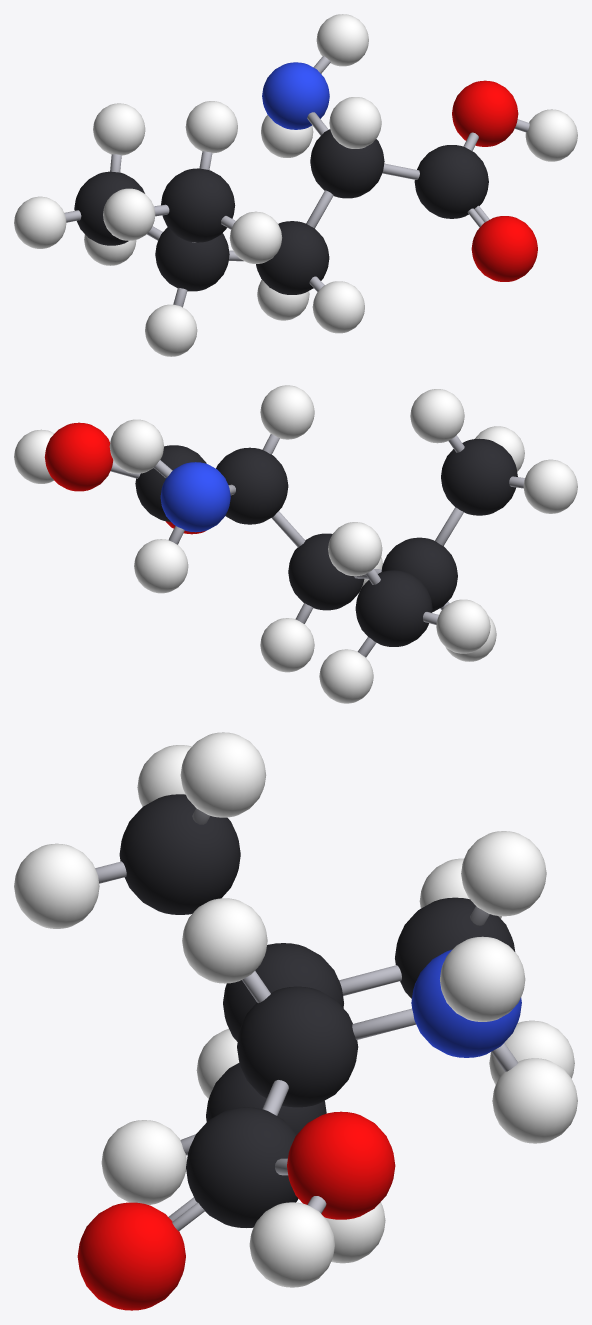
File: leucine.glb
3 views of the same model, one above another, from view 1: azimuth 30°, elevation 25°; view 2: azimuth 150°, elevation 25°; view 3: azimuth 270°, elevation 25° (orthographic). The views are drawn at different scales.
Visible parts, largest first — view 1: C6, C0, C3, C4, N5, O7, C1, O8, C2, H10, H12, H9 (+10 smaller); view 2: C0, C2, C4, N5, O8, C3, C1, H15, H13, H18, H10, H14 (+10 smaller); view 3: C4, C0, C6, O7, O8, H18, H21, H14, H11, H9, H20, H19 (+12 smaller).
Boxes of the visible parts, x1,y1,x2,y2 form: C6: (414,145,488,218); C0: (161,168,235,242); C3: (256,221,329,294); C4: (310,129,384,198); N5: (262,62,329,129); O7: (471,216,537,281); C1: (155,227,229,291); O8: (452,80,518,146); C2: (74,171,144,245); H10: (103,188,155,240); H12: (145,304,197,356); H9: (229,211,282,263); C0: (441,438,517,515); C2: (355,570,432,646); C4: (216,447,288,524); N5: (160,462,230,532); O8: (44,422,113,491); C3: (288,533,364,610); C1: (381,537,457,612); H15: (436,599,490,653); H13: (319,649,373,703); H18: (260,385,314,439); H10: (523,459,577,513); H14: (328,522,382,576); C4: (237,986,358,1107); C0: (119,794,240,914); C6: (186,1107,298,1227); O7: (77,1202,185,1310); O8: (287,1111,395,1219); H18: (182,898,267,983); H21: (249,1202,334,1287); H14: (461,831,546,916); H11: (180,732,266,817); H9: (14,843,99,928); H20: (440,936,525,1021); H19: (492,1058,577,1143).
Bounding box in the file's own units: 7.99 × 4.06 × 4.74.
